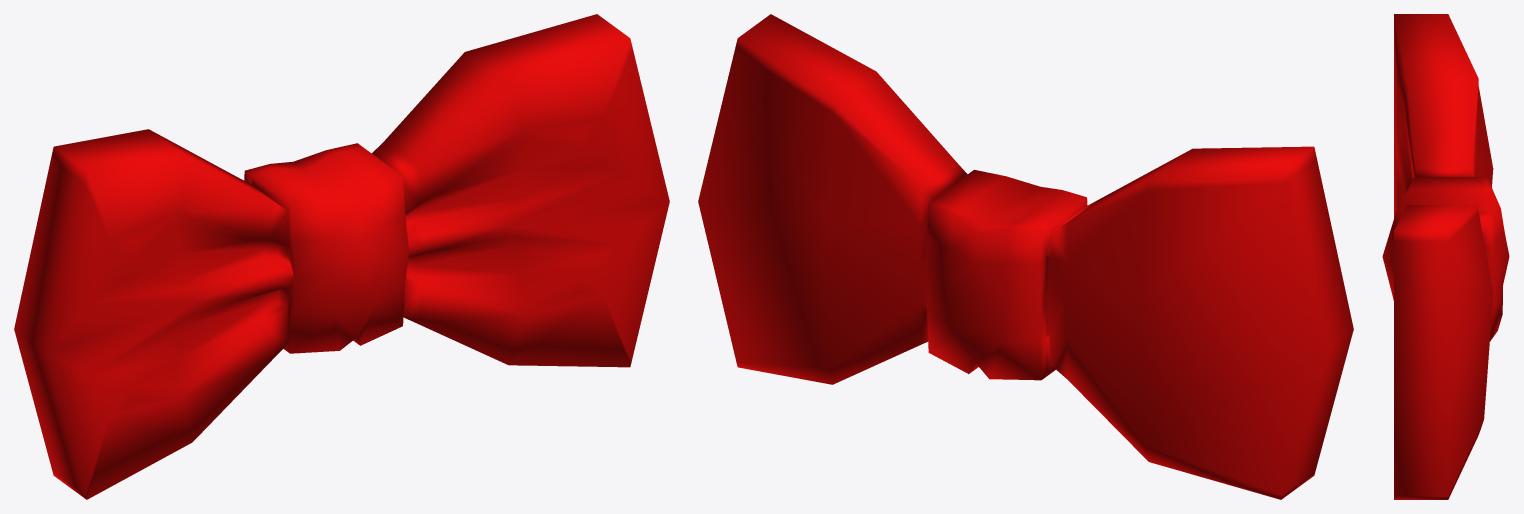
File: bowtie_fixed_colour.dae
The picture shows the model from 3 angles, left to right: view 1: azimuth 30°, elevation 25°; view 2: azimuth 150°, elevation 25°; view 3: azimuth 270°, elevation 25°; orthographic projection. The views are drawn at different scales.
Parts seen in each view (by area): view 1: Cube; view 2: Cube; view 3: Cube.
Part boxes in pixels (left/top/right/bottom): Cube: left=14, top=14, right=669, bottom=499; Cube: left=698, top=14, right=1353, bottom=499; Cube: left=1382, top=14, right=1509, bottom=499.
Bounding box in the file's own units: 0.1193 × 0.0258 × 0.0603.
